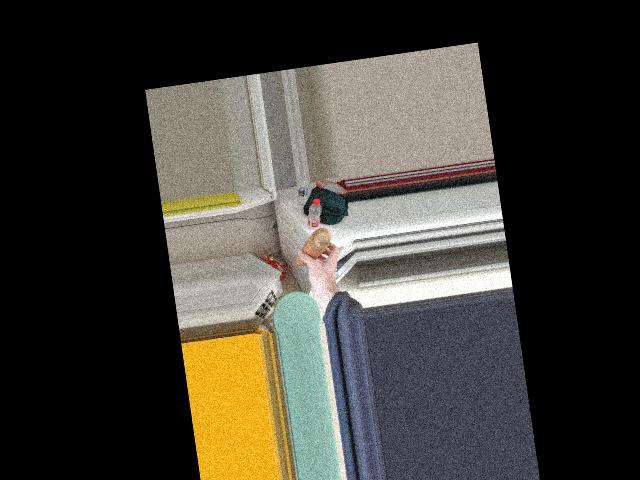sweet_potato: (288, 227, 337, 267)
